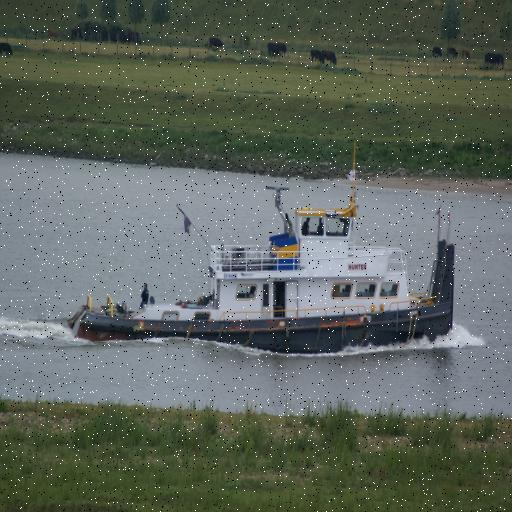tugboat: (61, 181, 459, 366)
